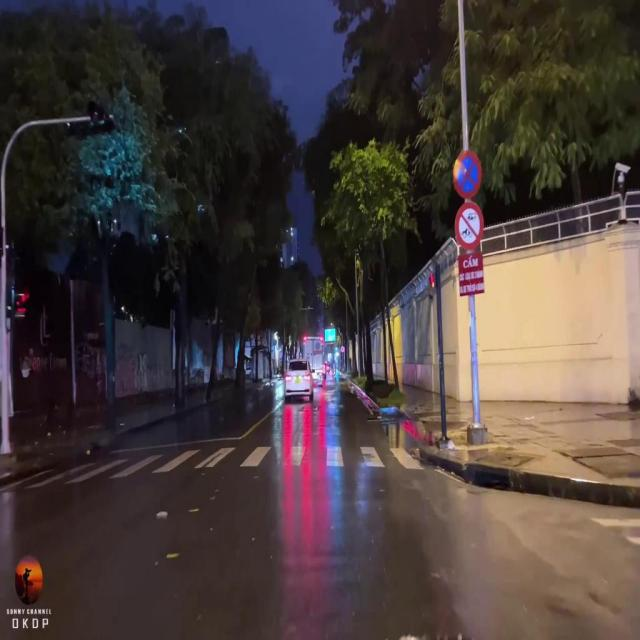cam_cac_loai_xe_3_banh: (455, 200, 484, 252)
cam_dung_xe_va_do_xe: (454, 149, 483, 200)
